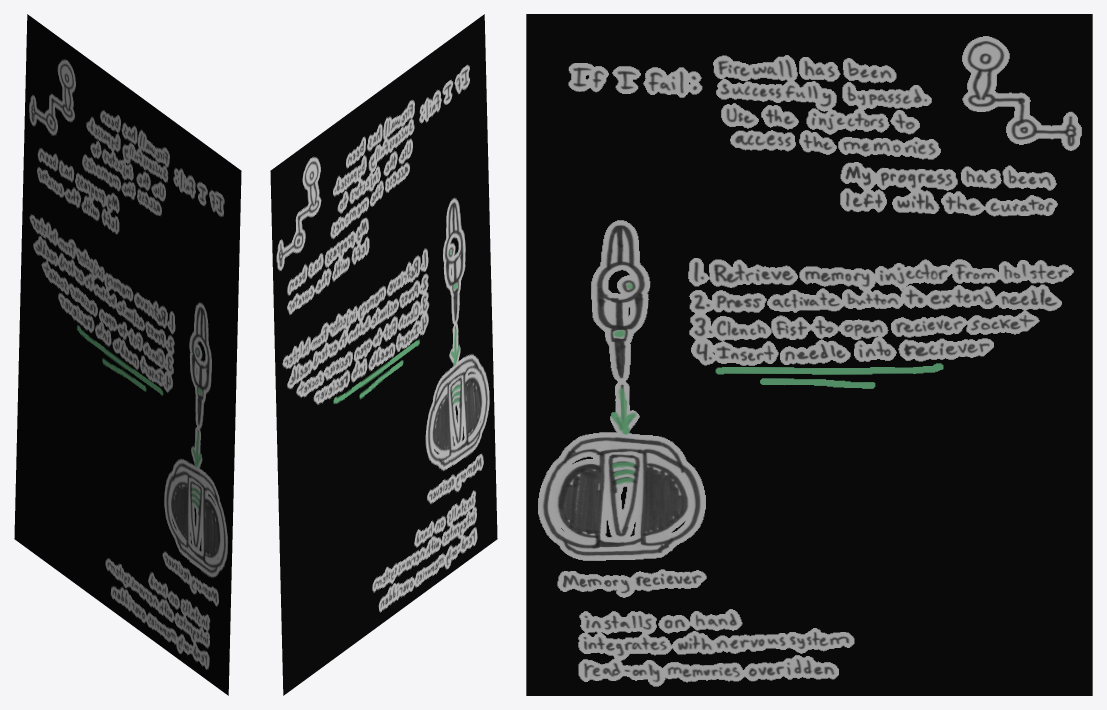
Rendered from NewtonNotes1.fbx.
3 renders of one model, left to right at view 1: azimuth 30°, elevation 25°; view 2: azimuth 150°, elevation 25°; view 3: azimuth 270°, elevation 25°, orthographic. The views are drawn at different scales.
Visible parts, largest first — view 1: Plane.012; view 2: Plane.012; view 3: Plane.012.
Part boxes in pixels (bbox=[...]): Plane.012: bbox=[14, 14, 241, 695]; Plane.012: bbox=[270, 14, 497, 695]; Plane.012: bbox=[526, 14, 1092, 695].
Bounding box in the file's own units: 2.6 × 101 × 74.98.
